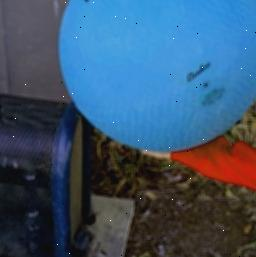algae: (52, 0, 256, 153)
